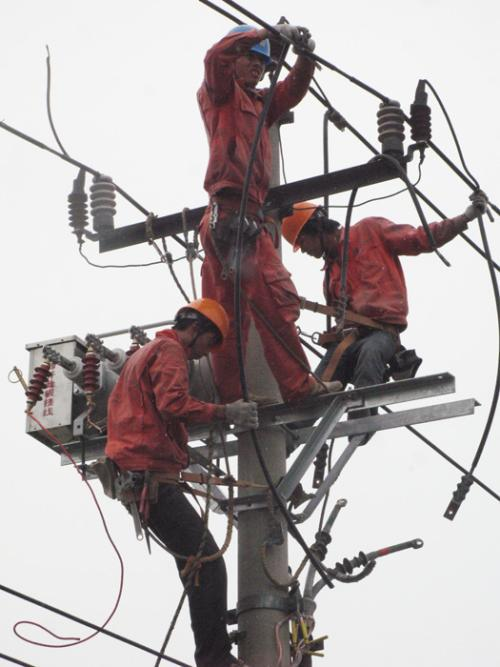helmet: (209, 13, 280, 91), (171, 296, 244, 363), (278, 191, 343, 263)
